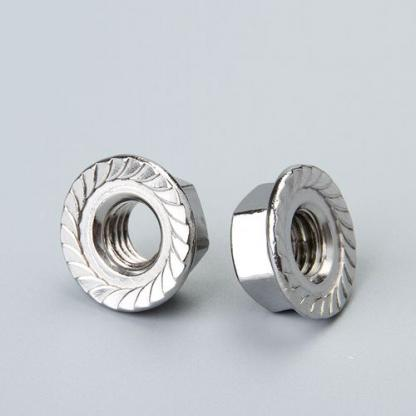FOD: (57, 155, 208, 316), (230, 164, 361, 321)
